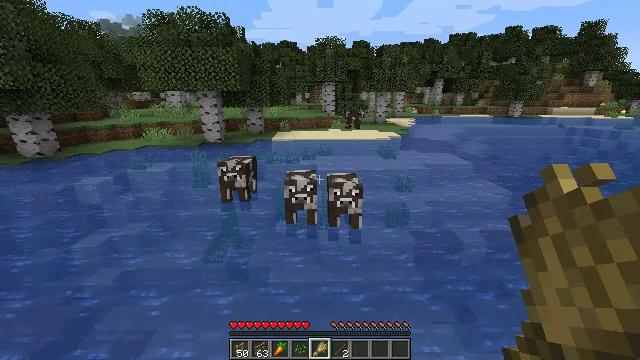cow: (328, 174, 362, 229), (219, 155, 256, 201), (286, 170, 317, 223), (345, 110, 365, 130)
